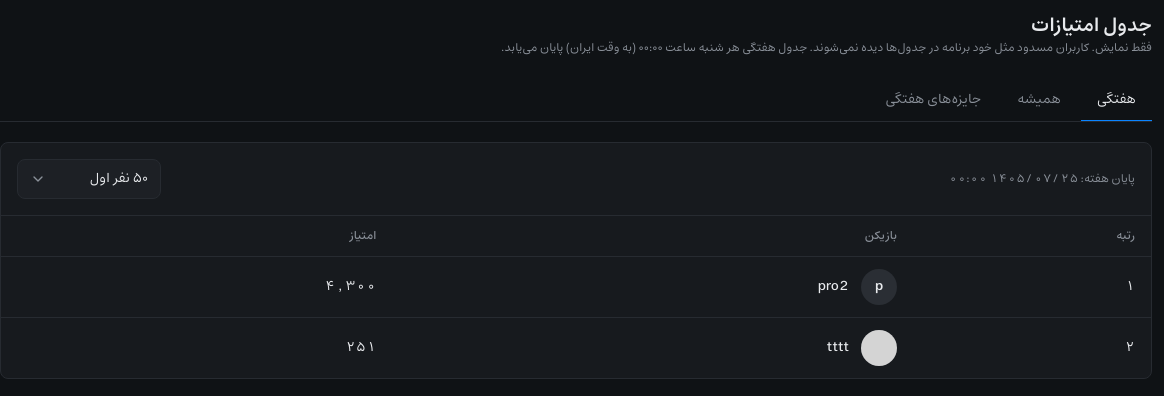
Test case: Leaderboards › switches to the all-time board and the reward history (banned winners are labelled)
Check: the text "pro2" is shown, box 818,277 -> 849,297
Click the tab "همیشه" at (1039, 101), box 1001,80 -> 1077,122
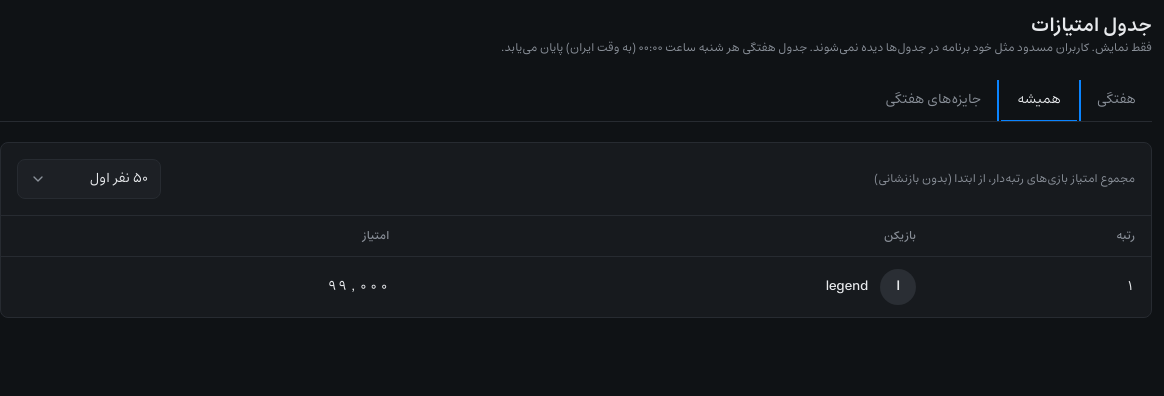
Check: the text "legend" is shown, box 826,277 -> 868,297
Check: the text "۹۹٬۰۰۰" is shown, box 1,256 -> 405,317
Click the tab "جایزه‌های هفتگی" at (933, 101), box 869,80 -> 997,122
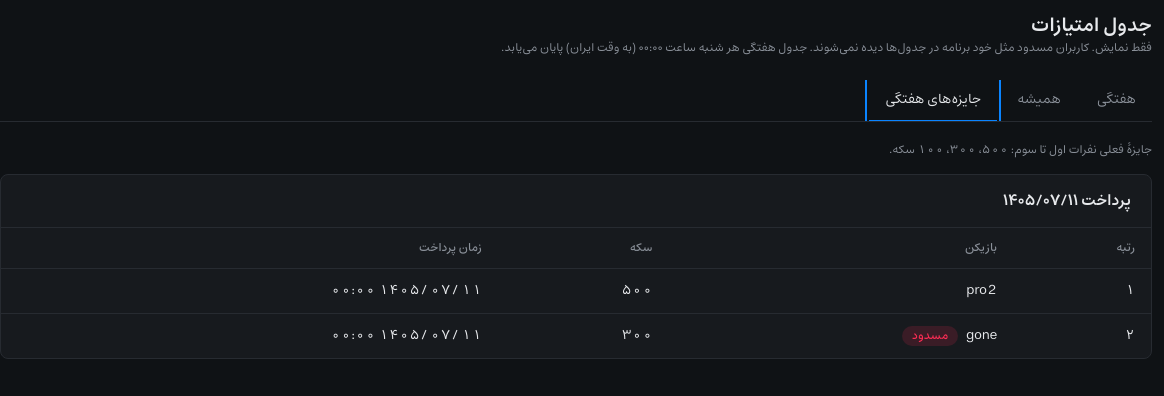
Check: the heading "پرداخت ۱۴۰۵/۰۷/۱۱" is shown, box 1003,189 -> 1131,213
Check: the text "مسدود" is shown, box 902,326 -> 958,346
Check: the text "جایزهٔ فعلی نفرات اول تا سوم: ۵۰۰، ۳۰۰، ۱۰۰ سکه." is shown, box 889,141 -> 1152,159
